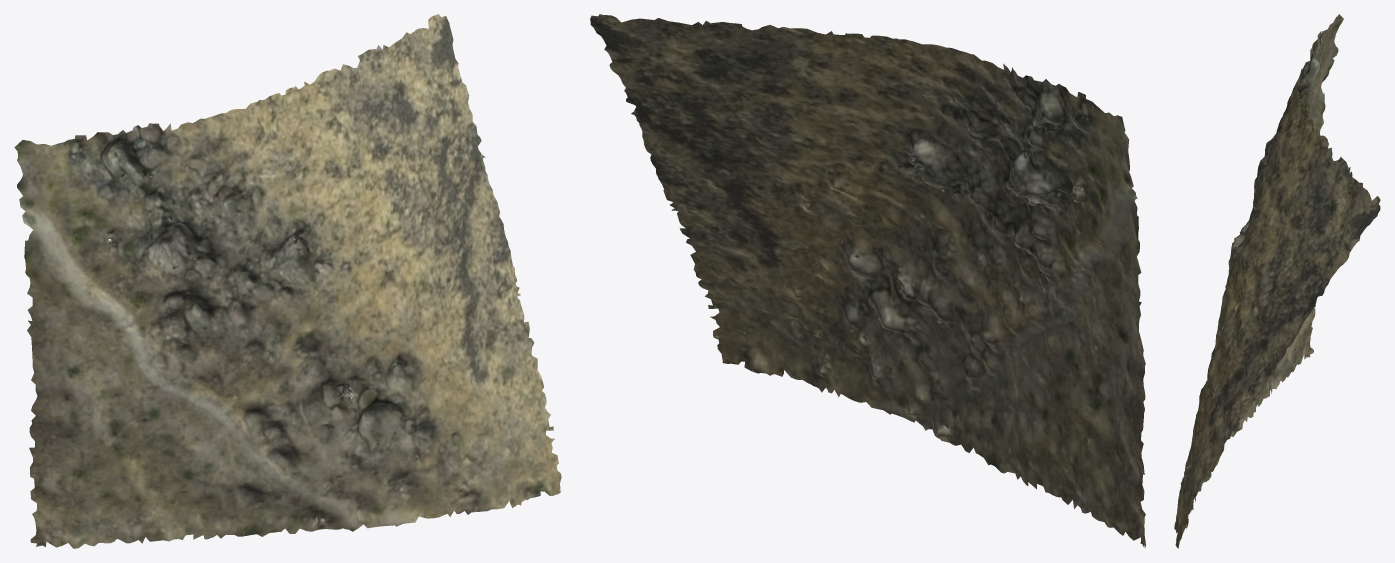
File: tile_47.obj
3 renders of one model, left to right at view 1: azimuth 30°, elevation 25°; view 2: azimuth 150°, elevation 25°; view 3: azimuth 270°, elevation 25°, orthographic. The views are drawn at different scales.
Bounding box in the file's own units: 1.14 × 0.9498 × 0.5095.
1 material, 1 textured.
